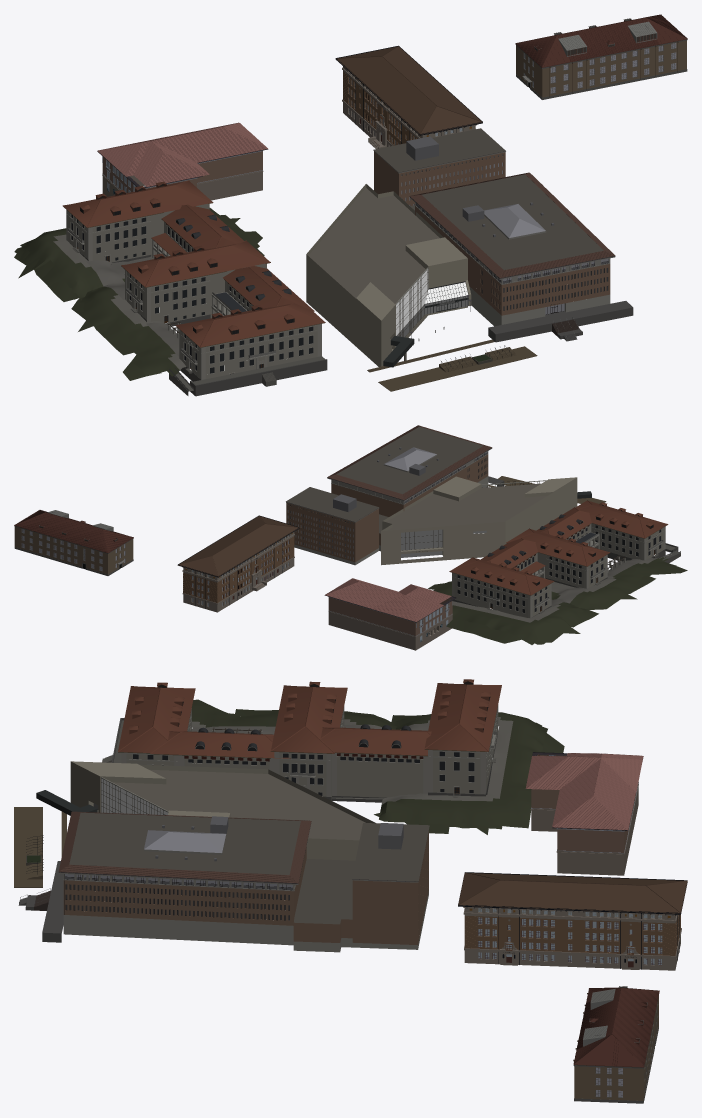
3 views of the same model, one above another, from view 1: azimuth 30°, elevation 25°; view 2: azimuth 150°, elevation 25°; view 3: azimuth 270°, elevation 25° (orthographic). The views are drawn at different scales.
Parts seen in each view (by area): view 1: opaque, glass; view 2: opaque, glass; view 3: opaque, glass.
Boxes of the visible parts, x1,y1,x2,y2 form: opaque: [14, 14, 687, 396]; glass: [71, 43, 676, 374]; opaque: [14, 425, 687, 650]; glass: [21, 447, 660, 641]; opaque: [14, 679, 687, 1103]; glass: [65, 697, 662, 1097].
Size of the model in its own units: 292 by 30.71 by 205.
Materials: 2 (2 with a texture image).
